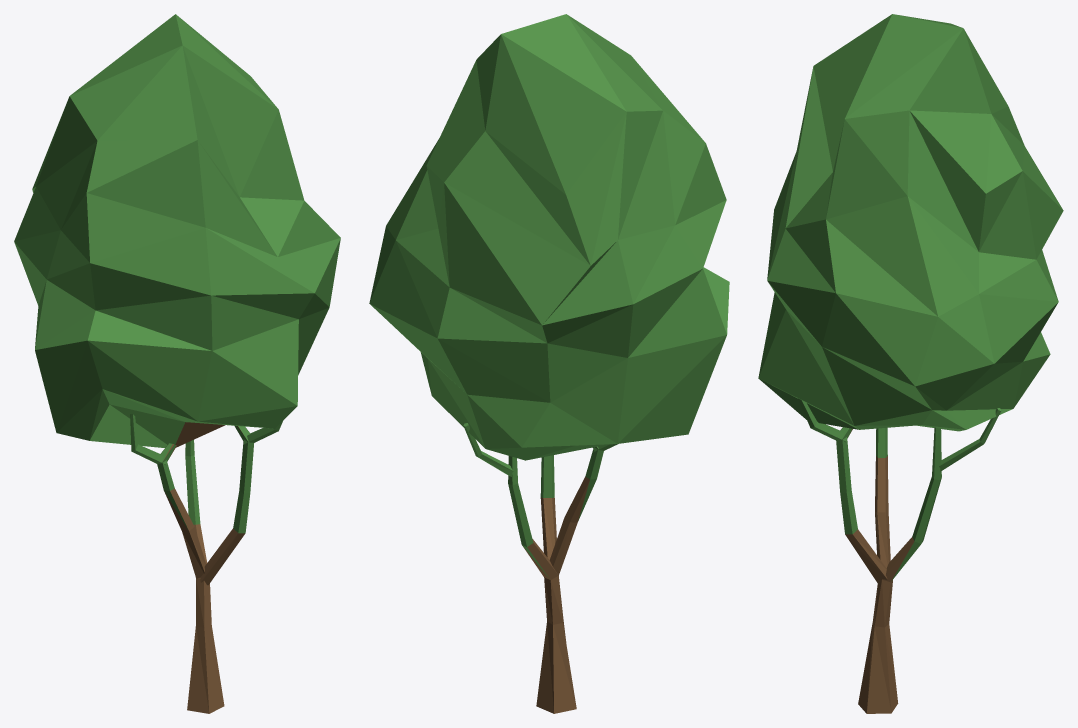
Rendered from tree3d-150.glb.
3 views of the same model, side by side, from view 1: azimuth 30°, elevation 25°; view 2: azimuth 150°, elevation 25°; view 3: azimuth 270°, elevation 25° (orthographic). The views are drawn at different scales.
Parts seen in each view (by area): view 1: tree3d-150; view 2: tree3d-150; view 3: tree3d-150.
Part boxes in pixels (x1=…): tree3d-150: x1=14, y1=14, x2=340, y2=713; tree3d-150: x1=369, y1=14, x2=729, y2=713; tree3d-150: x1=758, y1=14, x2=1063, y2=713.
Bounding box in the file's own units: 0.4941 × 1 × 0.404.
